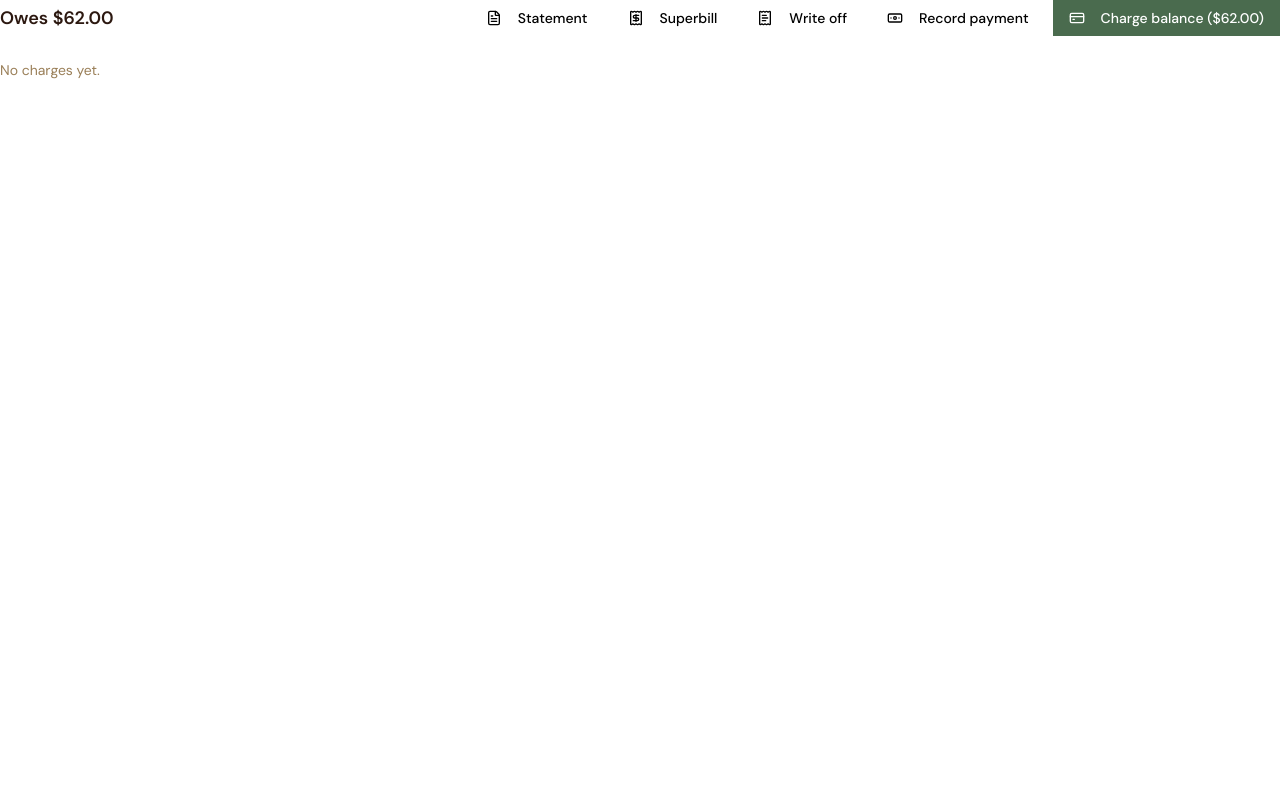
Test case: BalanceTab › writing off a balance › opens the dialog pre-filled with the current balance
The width and height of the screenshot is (1280, 800).
Step 1. Click the button "Write off" → coordinates (802, 18), box x1=741 y1=0 x2=863 y2=36
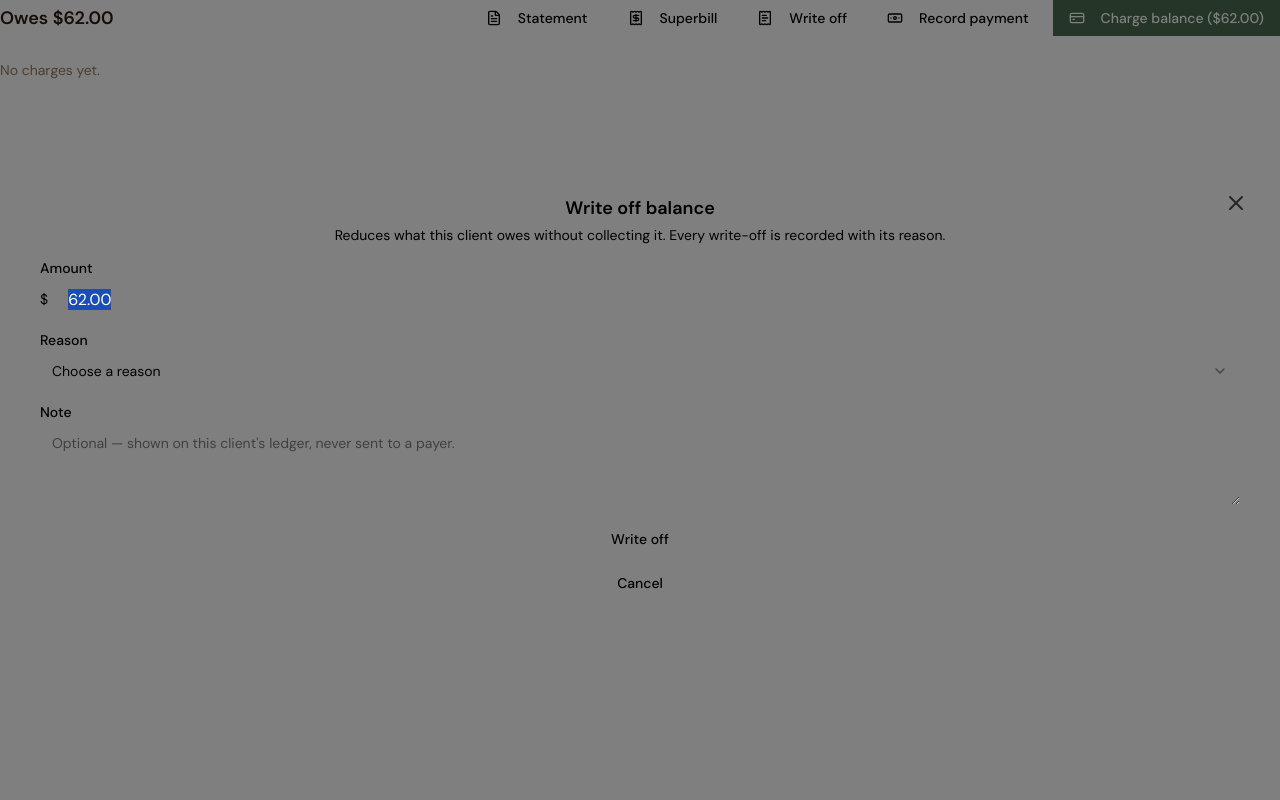
expect the dialog "Write off balance" is shown: met, box x1=16 y1=175 x2=1264 y2=625
expect the field labelled "Amount" holds "62.00": met, box x1=56 y1=281 x2=1240 y2=317
